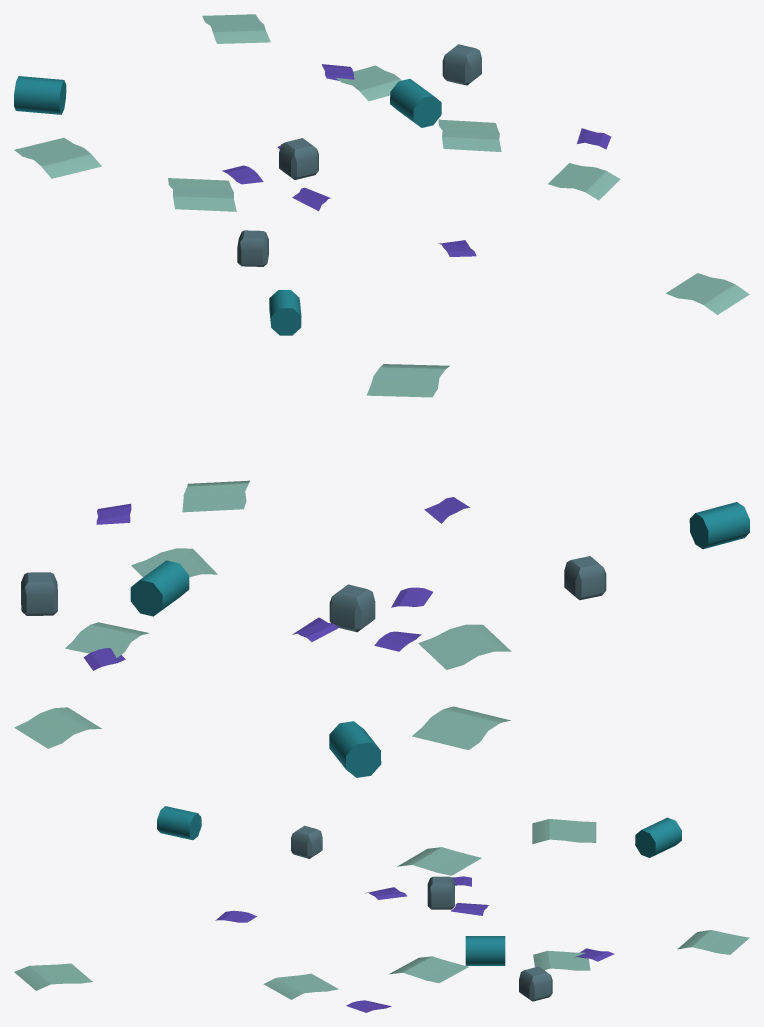
File: TrashPile_Litter_001.fbx
3 views of the same model, one above another, from view 1: azimuth 30°, elevation 25°; view 2: azimuth 150°, elevation 25°; view 3: azimuth 270°, elevation 25° (orthographic). The views are drawn at different scales.
Parts seen in each view (by area): view 1: Trash.Paper.001, Trash.Cans, Trash.Cartons, TrashPaperSmall.001; view 2: Trash.Paper.001, Trash.Cans, Trash.Cartons, TrashPaperSmall.001; view 3: Trash.Paper.001, Trash.Cans, Trash.Cartons, TrashPaperSmall.001.
Boxes of the visible parts, x1,y1,x2,y2 form: Trash.Paper.001: [14, 14, 749, 314]; Trash.Cans: [14, 76, 441, 335]; Trash.Cartons: [237, 44, 481, 266]; TrashPaperSmall.001: [222, 64, 611, 256]; Trash.Paper.001: [14, 364, 511, 749]; Trash.Cans: [130, 502, 749, 777]; Trash.Cartons: [21, 556, 606, 632]; TrashPaperSmall.001: [83, 497, 469, 670]; Trash.Paper.001: [14, 819, 749, 999]; Trash.Cans: [157, 806, 681, 965]; Trash.Cartons: [291, 825, 552, 1001]; TrashPaperSmall.001: [215, 876, 614, 1012].
Size of the model in its own units: 173 by 11.02 by 282.
